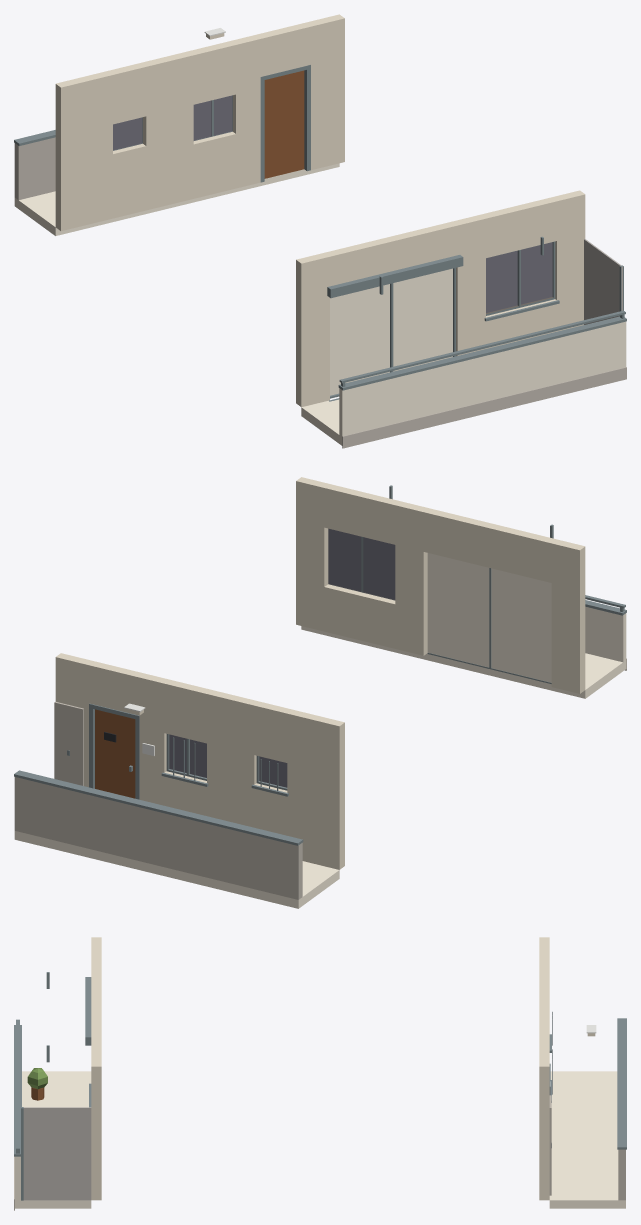
The model's file is tb_mansion_module_floor_01.fbx.
3 views of the same model, one above another, from view 1: azimuth 30°, elevation 25°; view 2: azimuth 150°, elevation 25°; view 3: azimuth 270°, elevation 25° (orthographic). The views are drawn at different scales.
Visible parts, largest first — view 1: tb_mansion_module_floor_01; view 2: tb_mansion_module_floor_01; view 3: tb_mansion_module_floor_01.
Part boxes in pixels (box(x1,y1,x2,y2)): tb_mansion_module_floor_01: box(14, 14, 626, 448); tb_mansion_module_floor_01: box(14, 477, 626, 908); tb_mansion_module_floor_01: box(14, 937, 626, 1210).
Size of what is drawn, in the model's own units: 6.02 by 3.12 by 12.04.
Materials: 3 (3 with a texture image).
